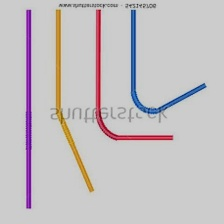drinking_straw: (89, 6, 177, 147), (125, 9, 209, 117), (51, 6, 97, 196), (18, 6, 37, 213)
